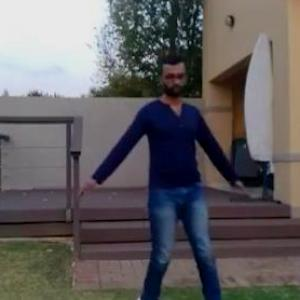land: (85, 64, 233, 299)
